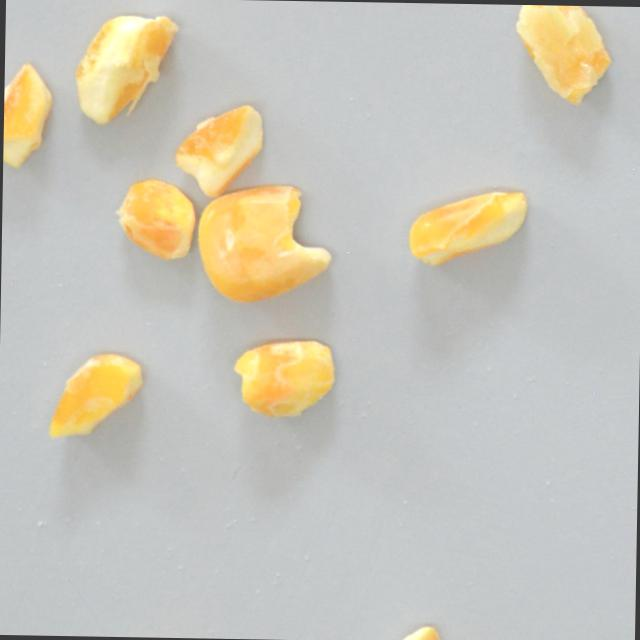pelicula: (192, 178, 331, 305), (36, 342, 154, 448), (69, 13, 176, 128), (401, 187, 533, 271), (511, 3, 613, 107), (228, 334, 338, 427), (163, 102, 265, 196), (115, 177, 196, 263), (3, 62, 56, 170), (366, 622, 450, 640)
